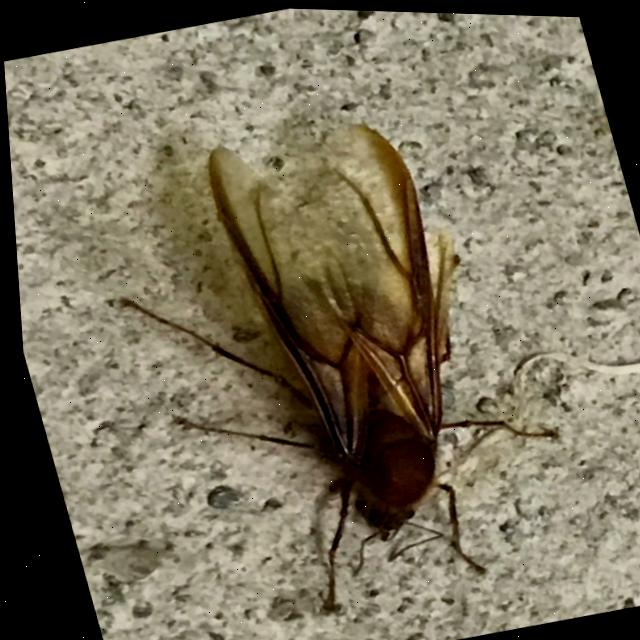Alive-Male-Alate: (69, 98, 591, 640)
